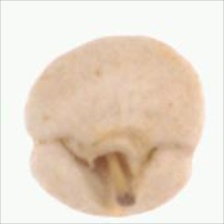L3: (57, 131, 158, 206)
L4: (24, 36, 205, 217)
